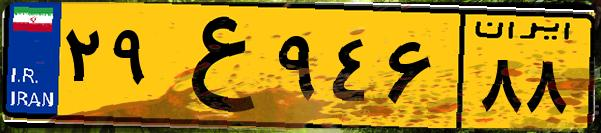2: (57, 26, 110, 100)
4: (330, 28, 385, 110)
6: (385, 28, 445, 110)
8: (475, 38, 525, 113), (525, 38, 570, 115)
9: (270, 28, 330, 110), (110, 28, 158, 98)
ع: (158, 12, 270, 120)
